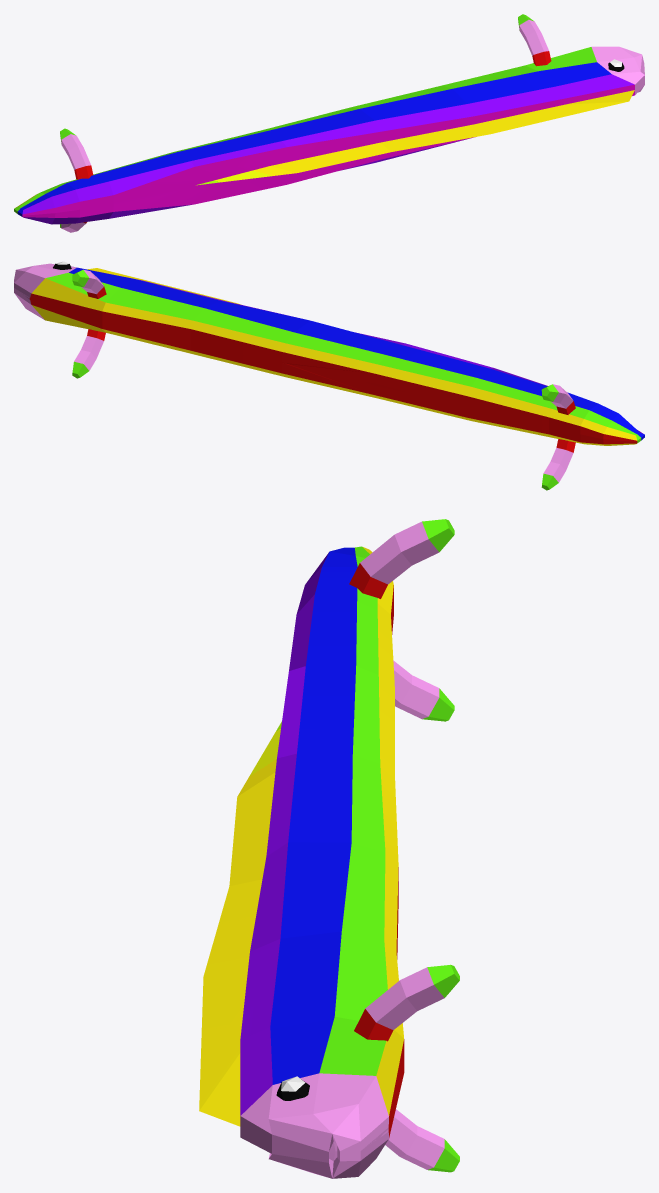
Rendered from OarfishDrip.glb.
The picture shows the model from 3 angles, top to bottom: view 1: azimuth 30°, elevation 25°; view 2: azimuth 150°, elevation 25°; view 3: azimuth 270°, elevation 25°; orthographic projection. The views are drawn at different scales.
Parts seen in each view (by area): view 1: OarfishDrip; view 2: OarfishDrip; view 3: OarfishDrip.
Boxes of the visible parts, left/top/right/bottom form: OarfishDrip: left=14, top=14, right=644, bottom=232; OarfishDrip: left=14, top=261, right=644, bottom=490; OarfishDrip: left=199, top=519, right=459, bottom=1178.
Size of the model in its own units: 1.6 by 0.2555 by 0.2907.
1 material, 1 textured.
